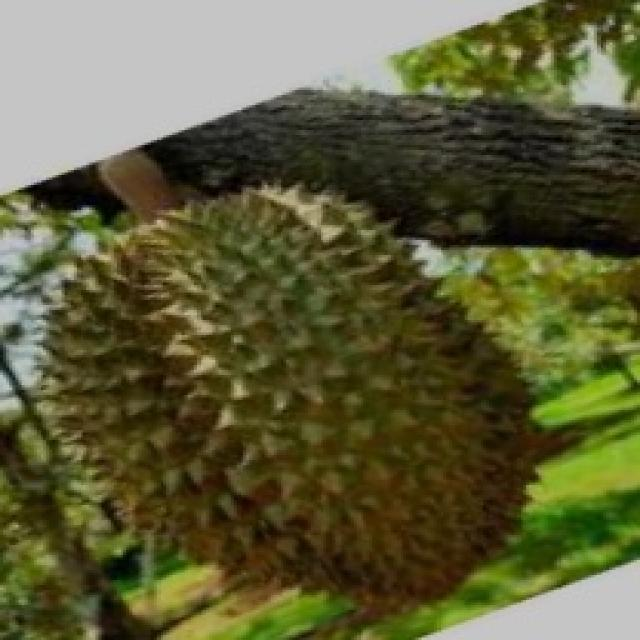fruit: (0, 198, 360, 628), (194, 262, 581, 640)
